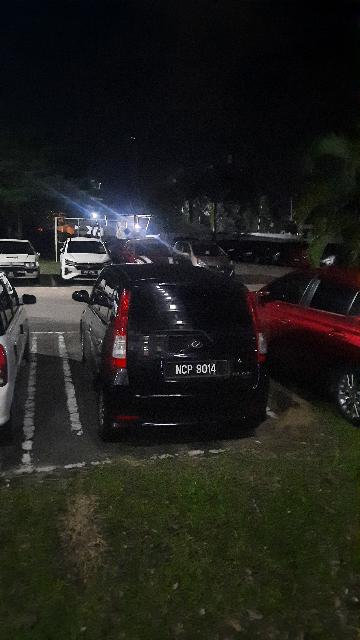License_Plate: (164, 360, 230, 378)
car: (71, 262, 270, 438), (252, 259, 360, 426), (1, 268, 37, 446), (175, 239, 238, 279), (61, 237, 115, 283), (121, 239, 180, 278), (2, 241, 42, 282)
